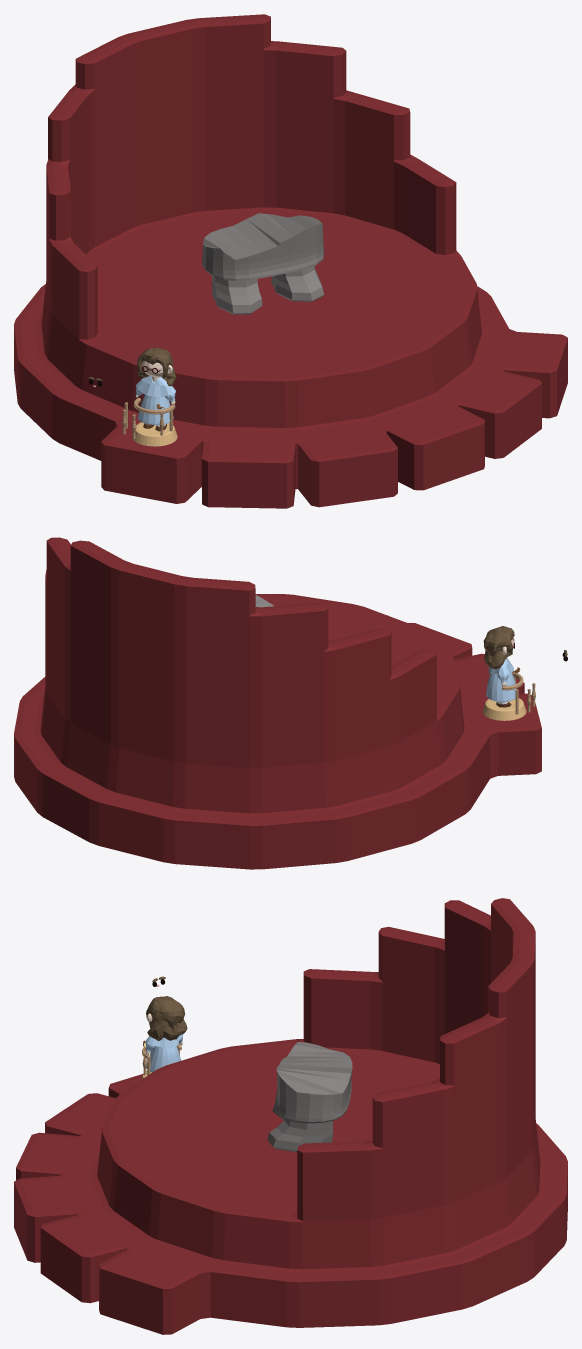
The model's file is Fase1.fbx.
3 renders of one model, top to bottom at view 1: azimuth 30°, elevation 25°; view 2: azimuth 150°, elevation 25°; view 3: azimuth 270°, elevation 25°, orthographic. The views are drawn at different scales.
Visible parts, largest first — view 1: Base 1, Estatua fase 1, Sphere.002, Cylinder.001, Cube.011; view 2: Base 1, Sphere.002, Cylinder.001, Cube.011; view 3: Base 1, Estatua fase 1, Sphere.002, Cube.011.
Boxes of the visible parts, x1=… form: Base 1: x1=14, y1=14, x2=567, y2=508; Estatua fase 1: x1=202, y1=213, x2=324, y2=314; Sphere.002: x1=137, y1=347, x2=176, y2=386; Cylinder.001: x1=132, y1=422, x2=177, y2=446; Cube.011: x1=137, y1=395, x2=173, y2=425; Base 1: x1=14, y1=537, x2=541, y2=869; Sphere.002: x1=483, y1=626, x2=514, y2=669; Cylinder.001: x1=482, y1=698, x2=526, y2=720; Cube.011: x1=486, y1=673, x2=516, y2=701; Base 1: x1=14, y1=898, x2=567, y2=1334; Estatua fase 1: x1=267, y1=1042, x2=352, y2=1151; Sphere.002: x1=146, y1=996, x2=187, y2=1040; Cube.011: x1=146, y1=1046, x2=180, y2=1072.
Bounding box in the file's own units: 362 × 201 × 360.
